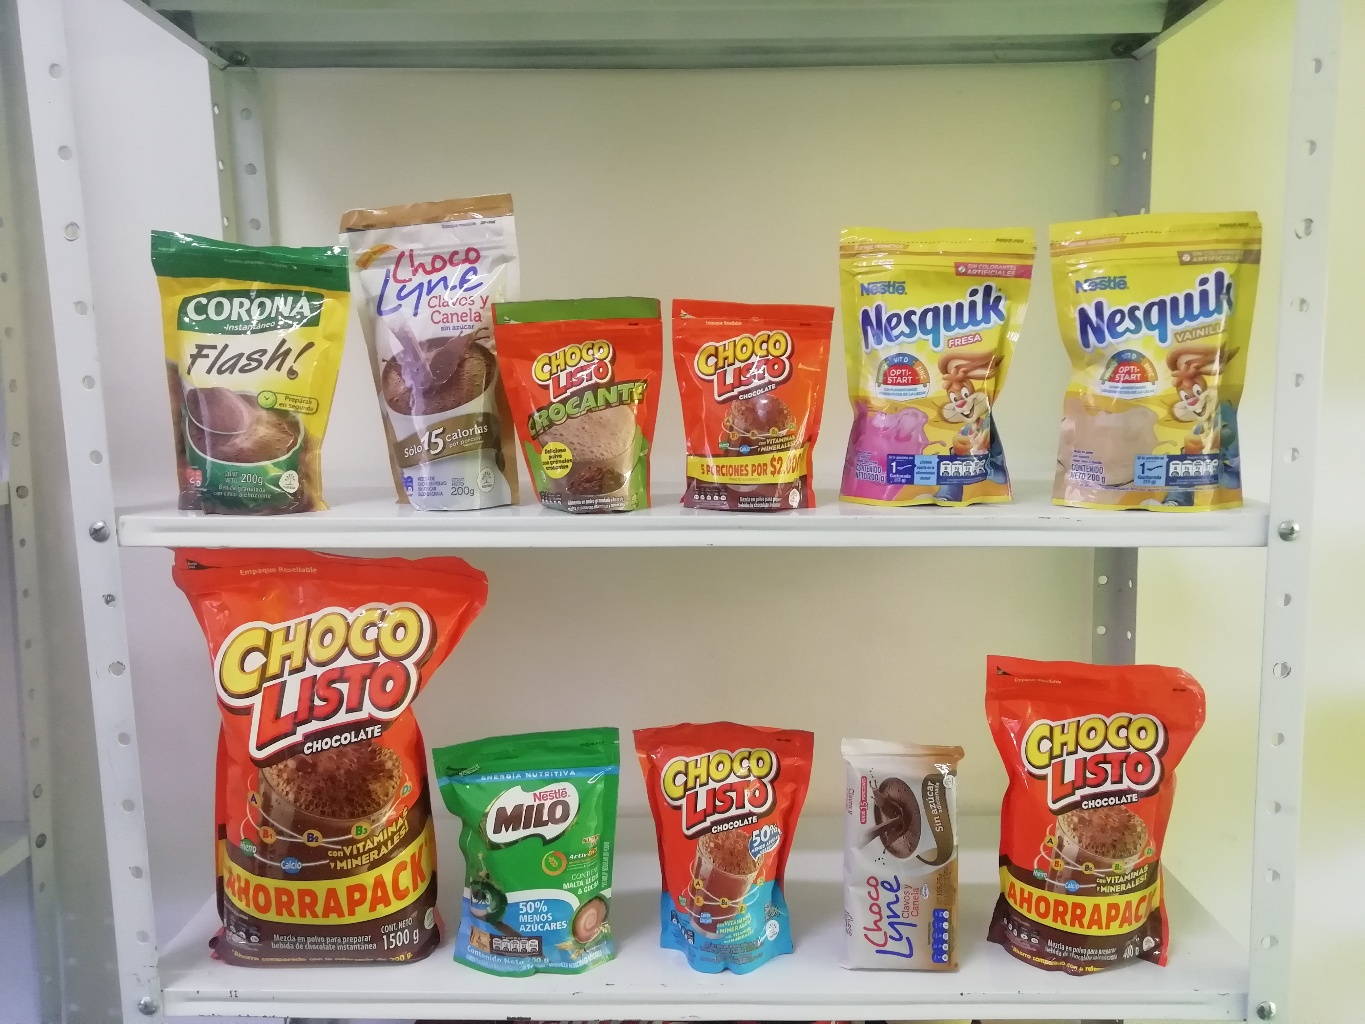COL0170102DYP10000: (488, 290, 667, 515)
COL0170103DYP1,500: (173, 539, 479, 964)
COL0170103DYP10000: (664, 287, 840, 520)
COL0170103DYP40000: (984, 643, 1220, 982)
COL0170104DYP20000: (636, 711, 831, 979)
COL0170205DYP20000: (425, 723, 622, 987)
COL0170305DYP20000: (829, 218, 1065, 520)
COL0170306DYP20000: (1040, 208, 1297, 516)
